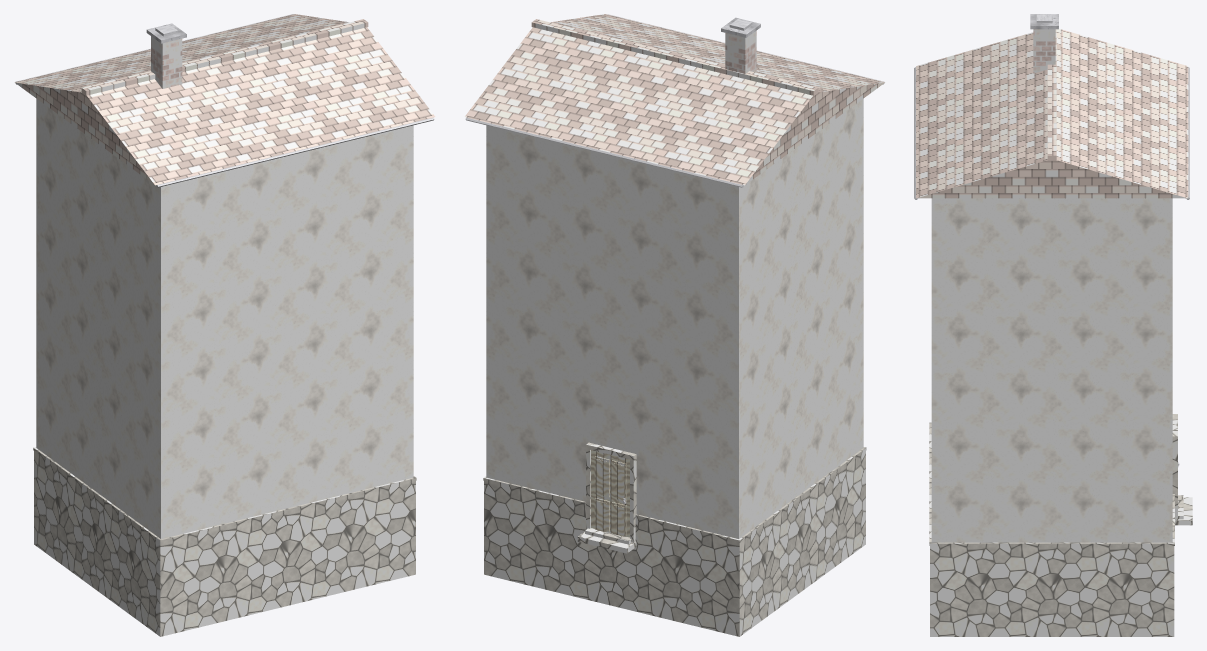
3 renders of one model, left to right at view 1: azimuth 30°, elevation 25°; view 2: azimuth 150°, elevation 25°; view 3: azimuth 270°, elevation 25°, orthographic. The views are drawn at different scales.
Parts seen in each view (by area): view 1: b1088806795; view 2: b1088806795; view 3: b1088806795.
Part boxes in pixels (x1,y1,x2,y2): b1088806795: (15, 14, 435, 636); b1088806795: (464, 14, 884, 636); b1088806795: (914, 14, 1192, 636).
Bounding box in the file's own units: 7.08 × 13.15 × 6.26.
14 materials, 14 textured.
